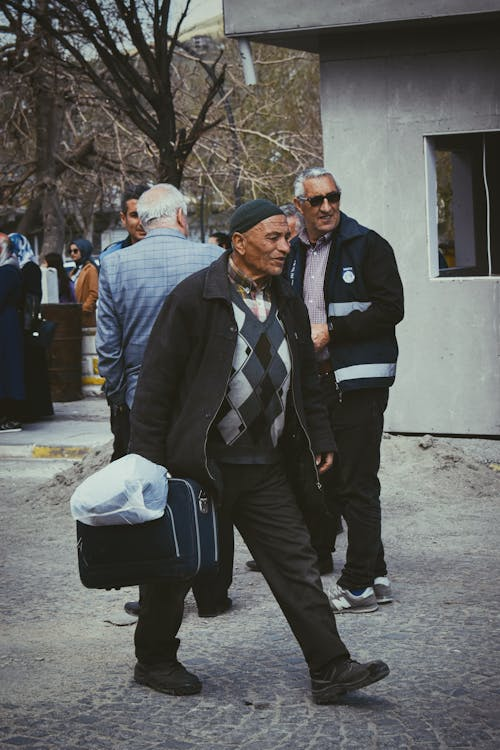person: (136, 198, 401, 707), (284, 164, 414, 616), (94, 180, 232, 420), (9, 228, 50, 425), (63, 238, 103, 316)
